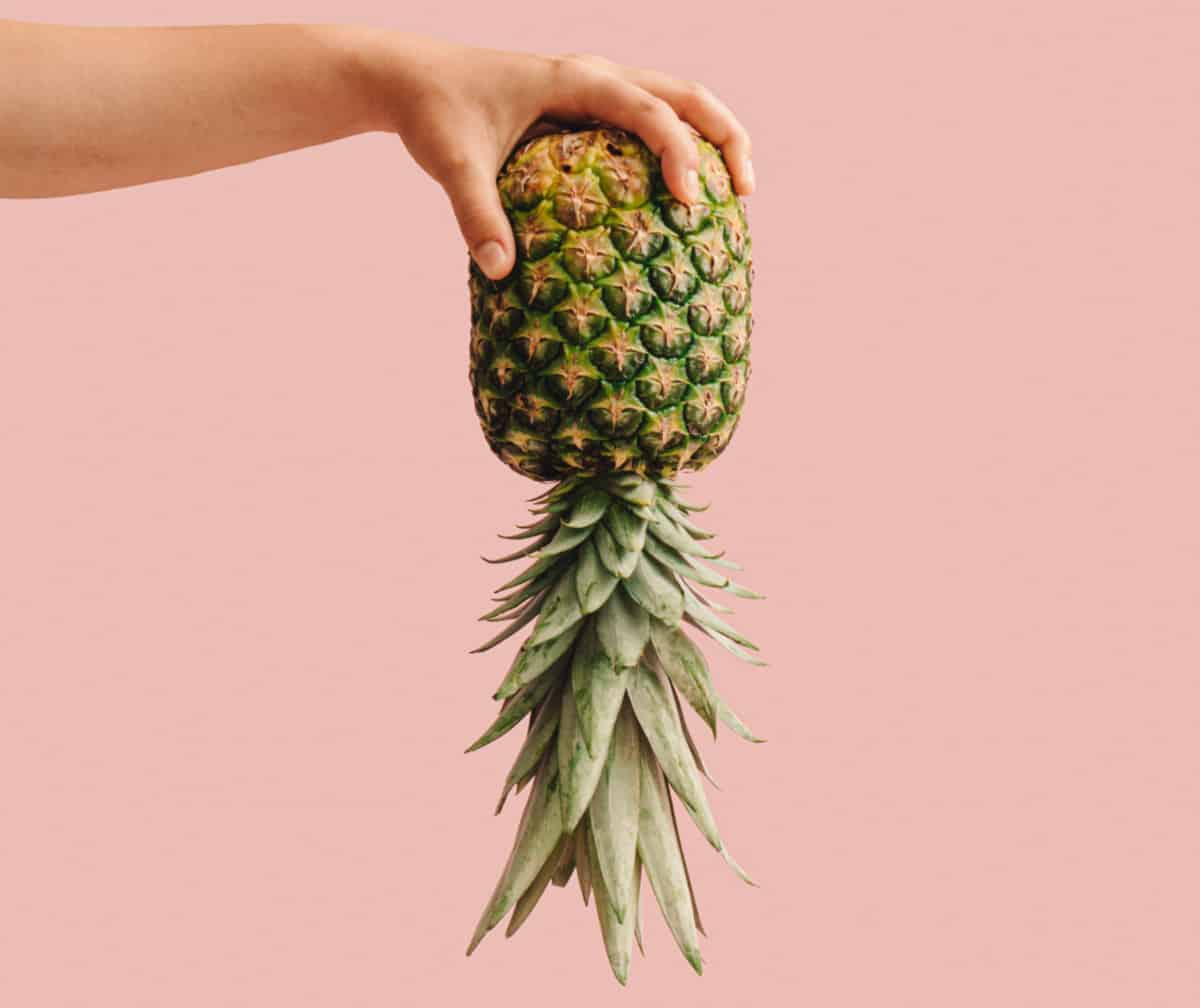pineapple: (483, 129, 769, 1008)
